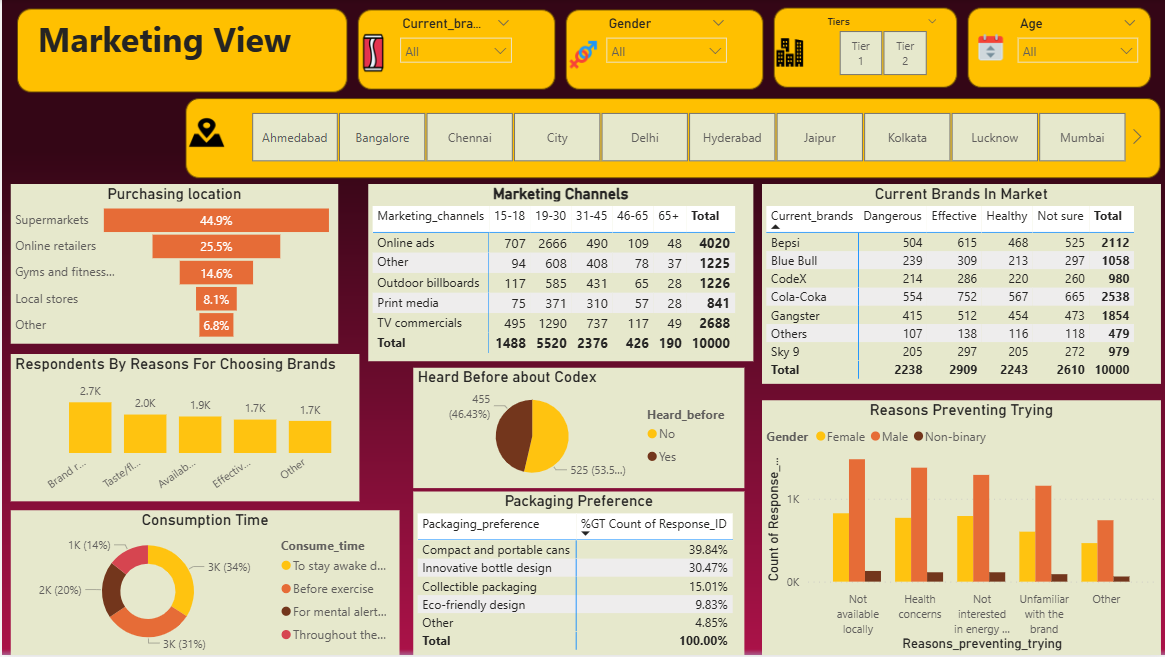

Layout of this report page (visuals, bound fields, positions):
{"tool":"powerbi","page":{"name":"Marketing View","canvas":[1280,720],"ordinal":5},"visuals":[{"type":"textbox","box":[34.3,13.7,324.9,76.8],"z":0},{"type":"slicer","fields":{"Values":["fact_survey_responses.Current_brands"]},"box":[426.4,13.7,142.6,76.8],"z":1000},{"type":"slicer","fields":{"Values":["dim_repondents.Gender"]},"box":[652.6,13.7,152.2,76.8],"z":2000},{"type":"slicer","fields":{"Values":["dim_repondents.Age"]},"box":[1103.7,13.7,152.2,76.8],"z":3000},{"type":"slicer","fields":{"Values":["dim_cities.Column3"]},"box":[892.6,13.7,145.3,76.8],"z":4000},{"type":"slicer","fields":{"Values":["dim_cities.Column2"]},"box":[248.2,117.9,1007.7,67.2],"z":5000},{"type":"funnel","title":"Purchasing location","fields":{"Category":["fact_survey_responses.Purchase_location"],"Y":["CountNonNull(fact_survey_responses.Response_ID)"]},"box":[9.6,202.9,359.2,175.5],"z":6000},{"type":"pivotTable","title":"Marketing Channels","fields":{"Rows":["fact_survey_responses.Marketing_channels"],"Values":["fact_survey_responses.Total Responses"],"Columns":["dim_repondents.Age"]},"box":[401.7,202.9,422.3,194.7],"z":7000},{"type":"pivotTable","title":"Current Brands In Market","fields":{"Rows":["fact_survey_responses.Current_brands"],"Columns":["fact_survey_responses.General_perception"],"Values":["CountNonNull(fact_survey_responses.Response_ID)"]},"box":[833.6,202.9,437.4,219.4],"z":8000},{"type":"clusteredColumnChart","title":"Respondents By Reasons For Choosing Brands","fields":{"Category":["fact_survey_responses.Reasons_for_choosing_brands"],"Y":["CountNonNull(fact_survey_responses.Respondent_ID)"]},"box":[9.6,389.4,382.5,161.8],"z":9000},{"type":"pieChart","title":"Heard Before about Codex","fields":{"Category":["fact_survey_responses.Heard_before"],"Y":["fact_survey_responses.CodeX Respondents"]},"box":[451.1,404.5,363.3,131.6],"z":10000},{"type":"clusteredColumnChart","title":"Reasons Preventing Trying","fields":{"Series":["dim_repondents.Gender"],"Category":["fact_survey_responses.Reasons_preventing_trying"],"Y":["CountNonNull(fact_survey_responses.Response_ID)"]},"box":[833.6,440.1,437.4,279.7],"z":11000},{"type":"pivotTable","title":"Packaging Preference","fields":{"Rows":["fact_survey_responses.Packaging_preference"],"Values":["CountNonNull(fact_survey_responses.Response_ID)"]},"box":[451.1,540.2,363.3,179.6],"z":12000},{"type":"donutChart","title":"Consumption Time","fields":{"Category":["fact_survey_responses.Consume_time"],"Y":["CountNonNull(fact_survey_responses.Response_ID)"]},"box":[9.6,560.8,426.4,159],"z":13000}]}

Visuals, with their boxes in screenshot pixels (x1, y1, x2, y2), scaled from the page's 1280x720 canvas onto the 1165x657 screenshot:
textbox: locate(31, 13, 327, 83)
slicer - fact_survey_responses.Current_brands: locate(388, 13, 518, 83)
slicer - dim_repondents.Gender: locate(594, 13, 732, 83)
slicer - dim_repondents.Age: locate(1005, 13, 1143, 83)
slicer - dim_cities.Column3: locate(812, 13, 945, 83)
slicer - dim_cities.Column2: locate(226, 108, 1143, 169)
"Purchasing location" funnel: locate(9, 185, 336, 345)
"Marketing Channels" pivotTable: locate(366, 185, 750, 363)
"Current Brands In Market" pivotTable: locate(759, 185, 1157, 385)
"Respondents By Reasons For Choosing Brands" clusteredColumnChart: locate(9, 355, 357, 503)
"Heard Before about Codex" pieChart: locate(411, 369, 741, 489)
"Reasons Preventing Trying" clusteredColumnChart: locate(759, 402, 1157, 656)
"Packaging Preference" pivotTable: locate(411, 493, 741, 656)
"Consumption Time" donutChart: locate(9, 512, 397, 656)
